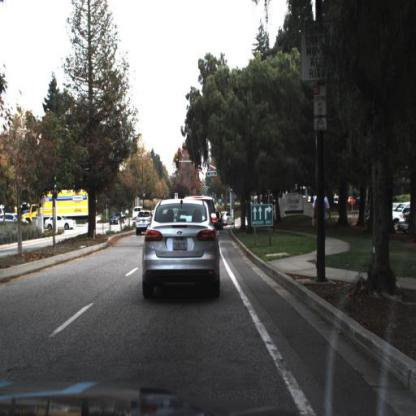car: (143, 193, 223, 297), (207, 196, 221, 234), (44, 214, 76, 230), (136, 209, 154, 237), (137, 211, 152, 236), (2, 212, 29, 224), (112, 210, 129, 226), (111, 212, 124, 226), (218, 214, 224, 233), (131, 208, 140, 220)
pedestrian: (312, 183, 329, 262)
trafficLight: (176, 157, 181, 168)
trafficLight-RedLeft: (174, 157, 182, 173)
truck: (23, 190, 92, 222)
